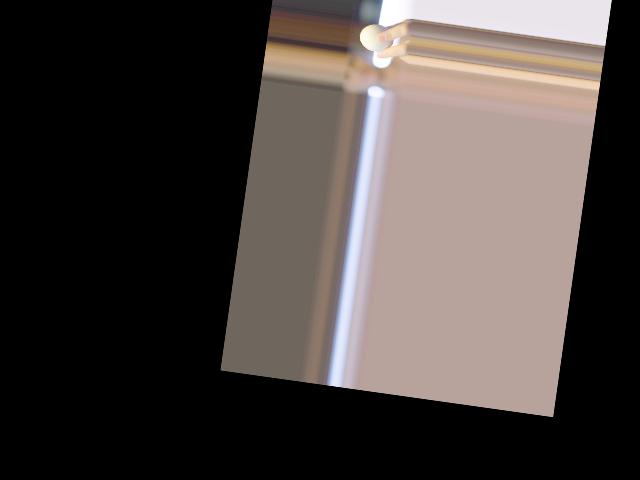egg: (358, 23, 395, 54)
